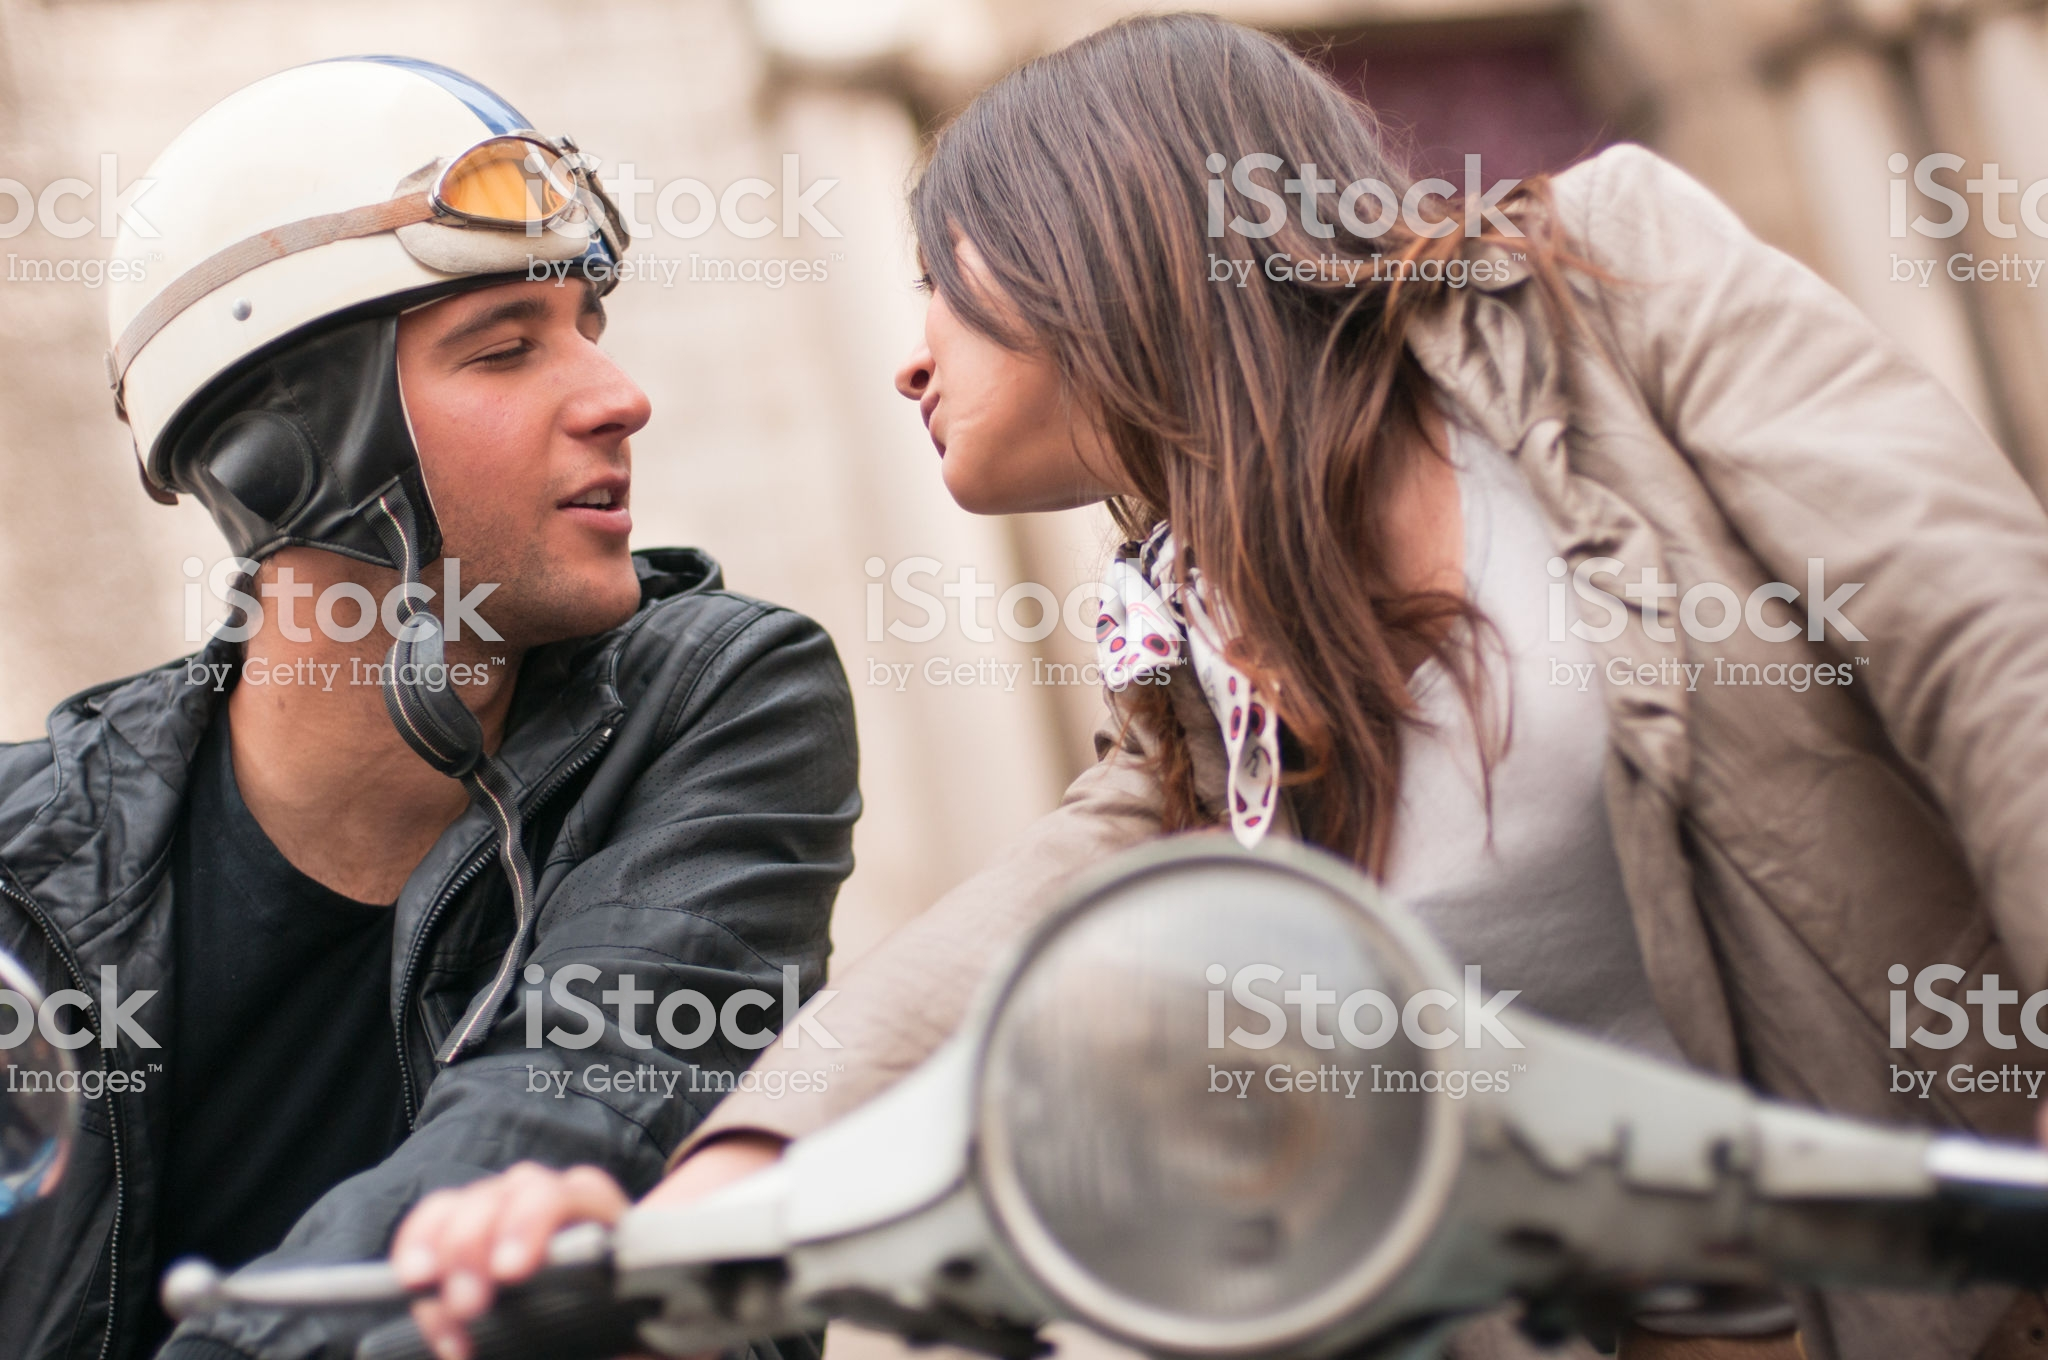helmet: (73, 41, 601, 382)
